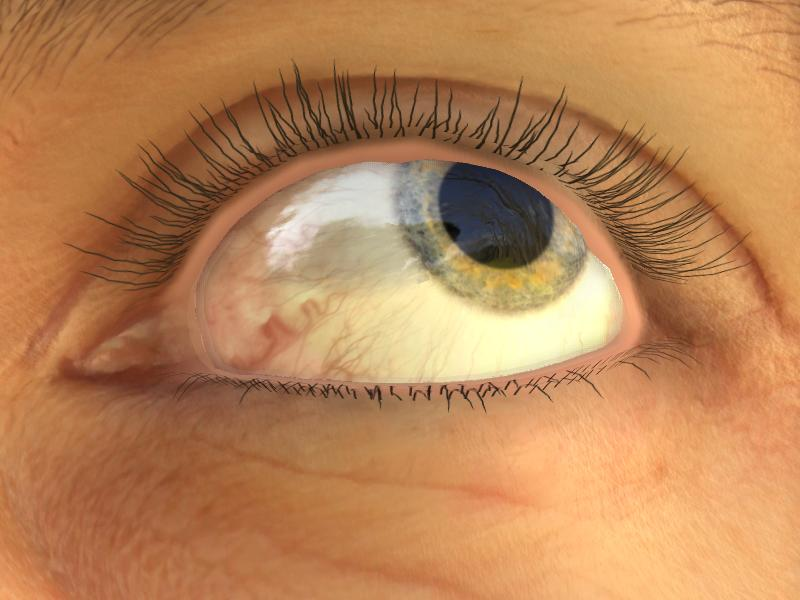eye: (391, 154, 592, 312)
